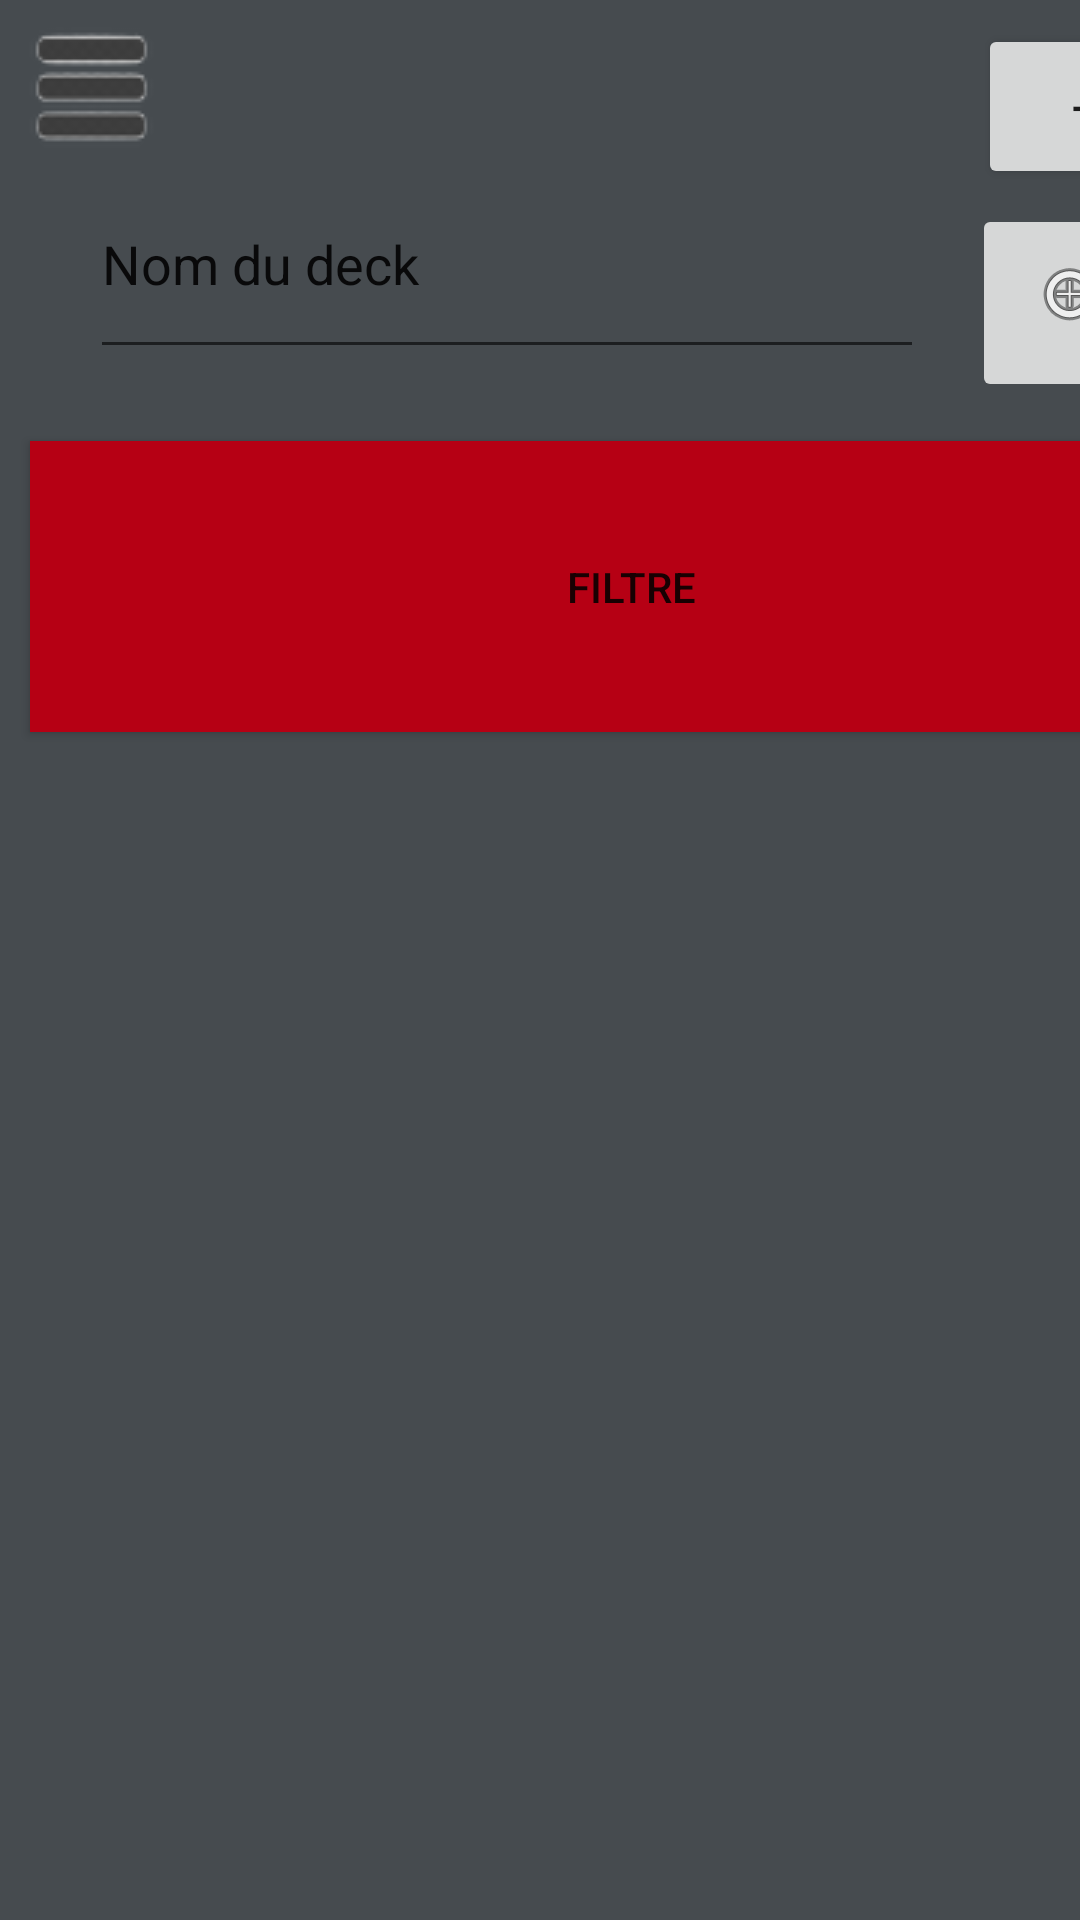

Icons on this 1080 x 1920 Android screen, each with the point to tap as (x=x, y=y):
Ouvrir le menu déroulant: (x=91, y=87)
